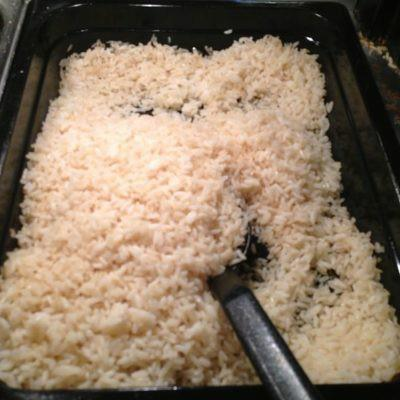WhiteRice: (0, 35, 400, 388)
